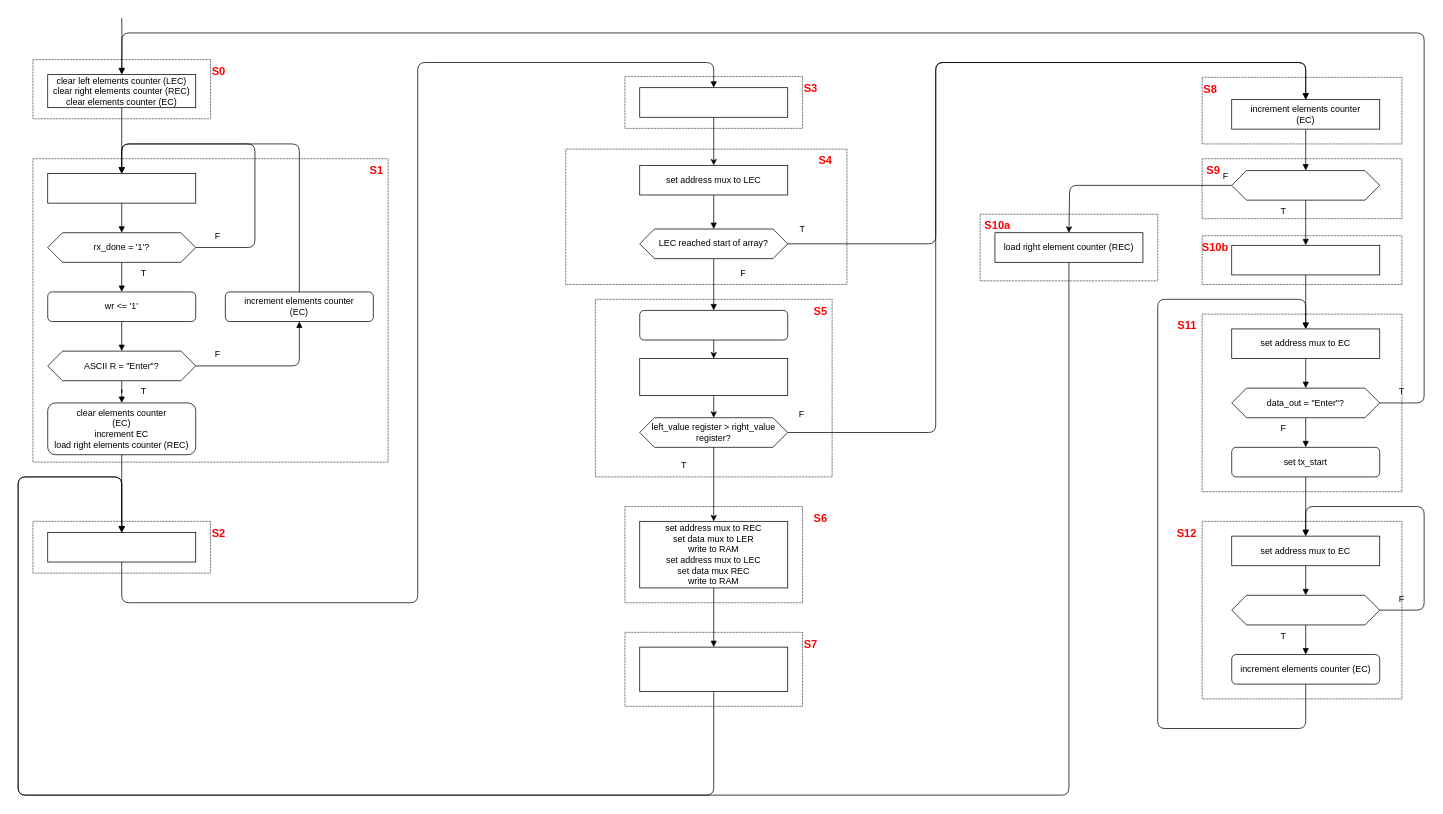
This 1443x814 diagram has some shape labels left out. Each missing label, with the centre of its shape:
"clear elements counter (EC)" goes at [1305,260].
"decrement left elements counter (LEC)" goes at [713,102].
"decrement right elements counter (REC)" goes at [713,669].
"EC reached end of array?" goes at [1305,185].
"load left element register (LER)" goes at [713,325].
"load left elements counter (LEC)" goes at [121,547].
"set address mux to EC set data mux to UART R" goes at [121,188].
"set address mux to REC load right element register" goes at [713,377].
"tx_done = '1'?" goes at [1305,610].
